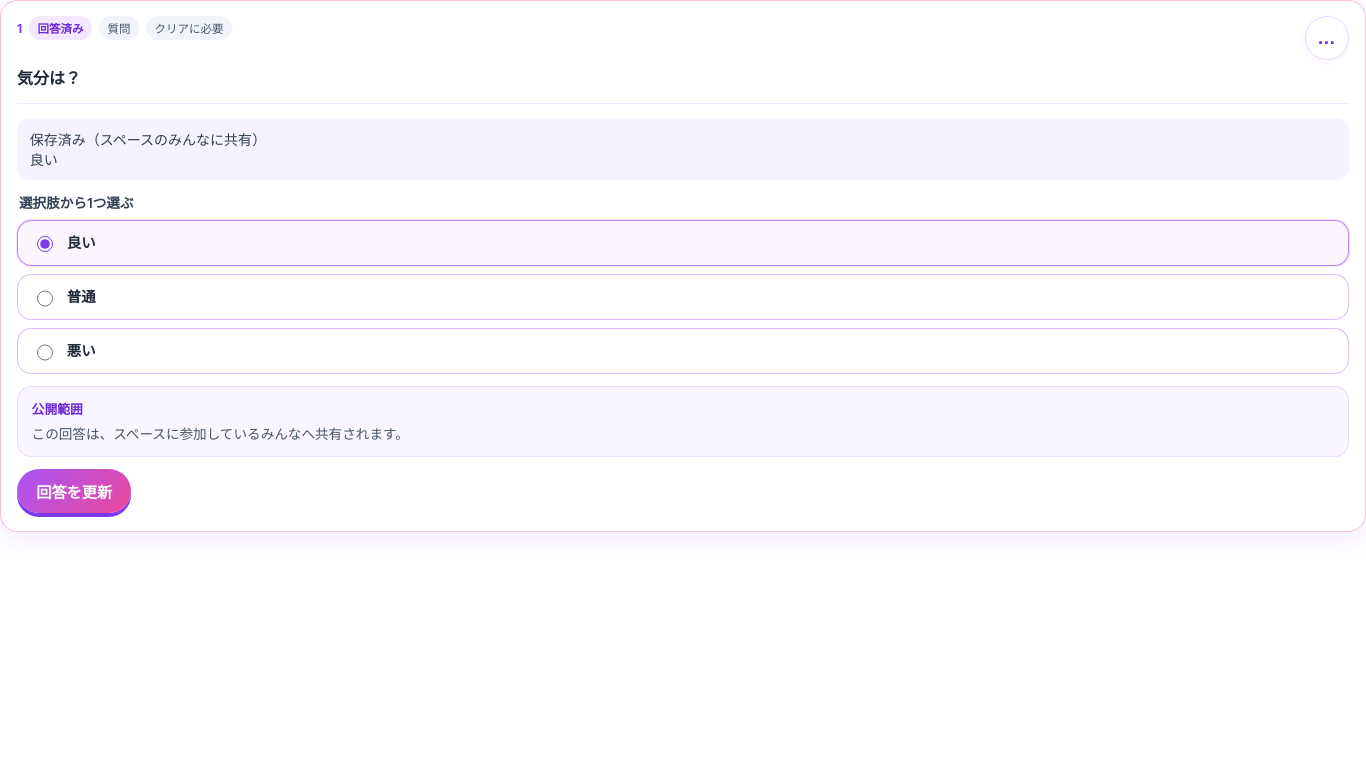
Test case: ChallengeItemCard choice3 › shows current selection on rewrite and keeps rewrite menu
expect the text "保存済み（スペースのみんなに共有） 良い" is shown: met, box [17,118,1349,180]
expect the radio button labelled "良い" is checked: met, box [37,236,53,252]
Click the button named "回答操作". click: coordinates (1327, 38)
box: [1305,16,1349,60]
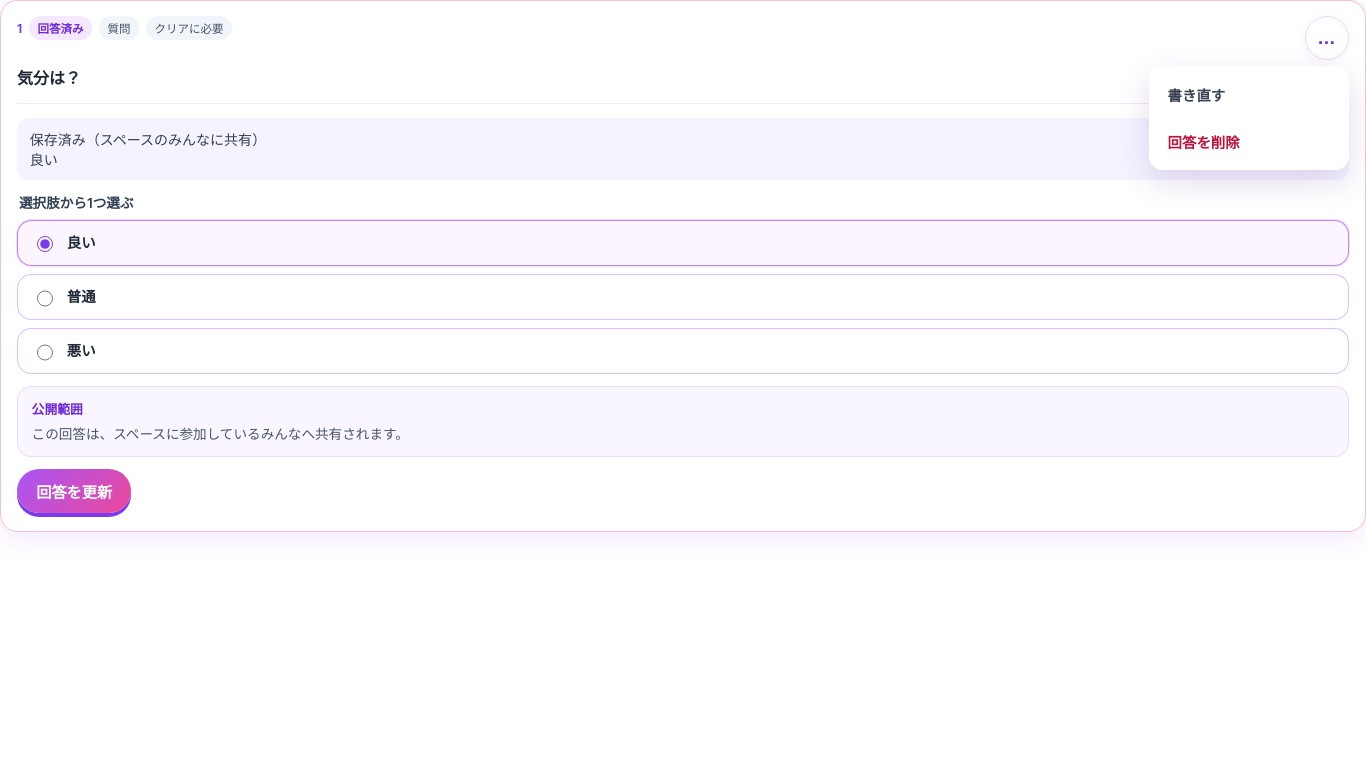
expect the menu item "書き直す" is shown: met, box [1156,73,1342,117]
expect the menu item "回答を削除" is shown: met, box [1156,119,1342,163]
